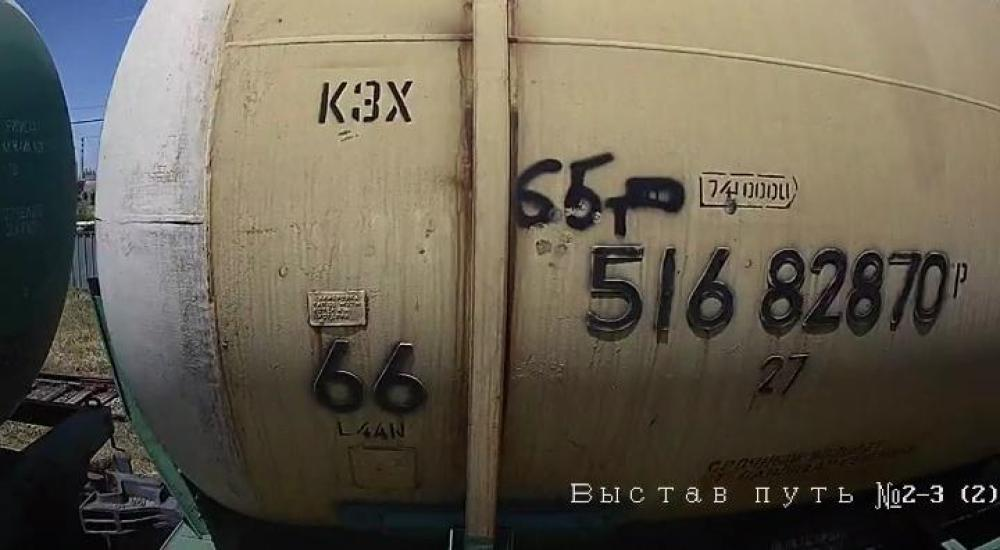Wagon-number: (577, 241, 954, 344)
